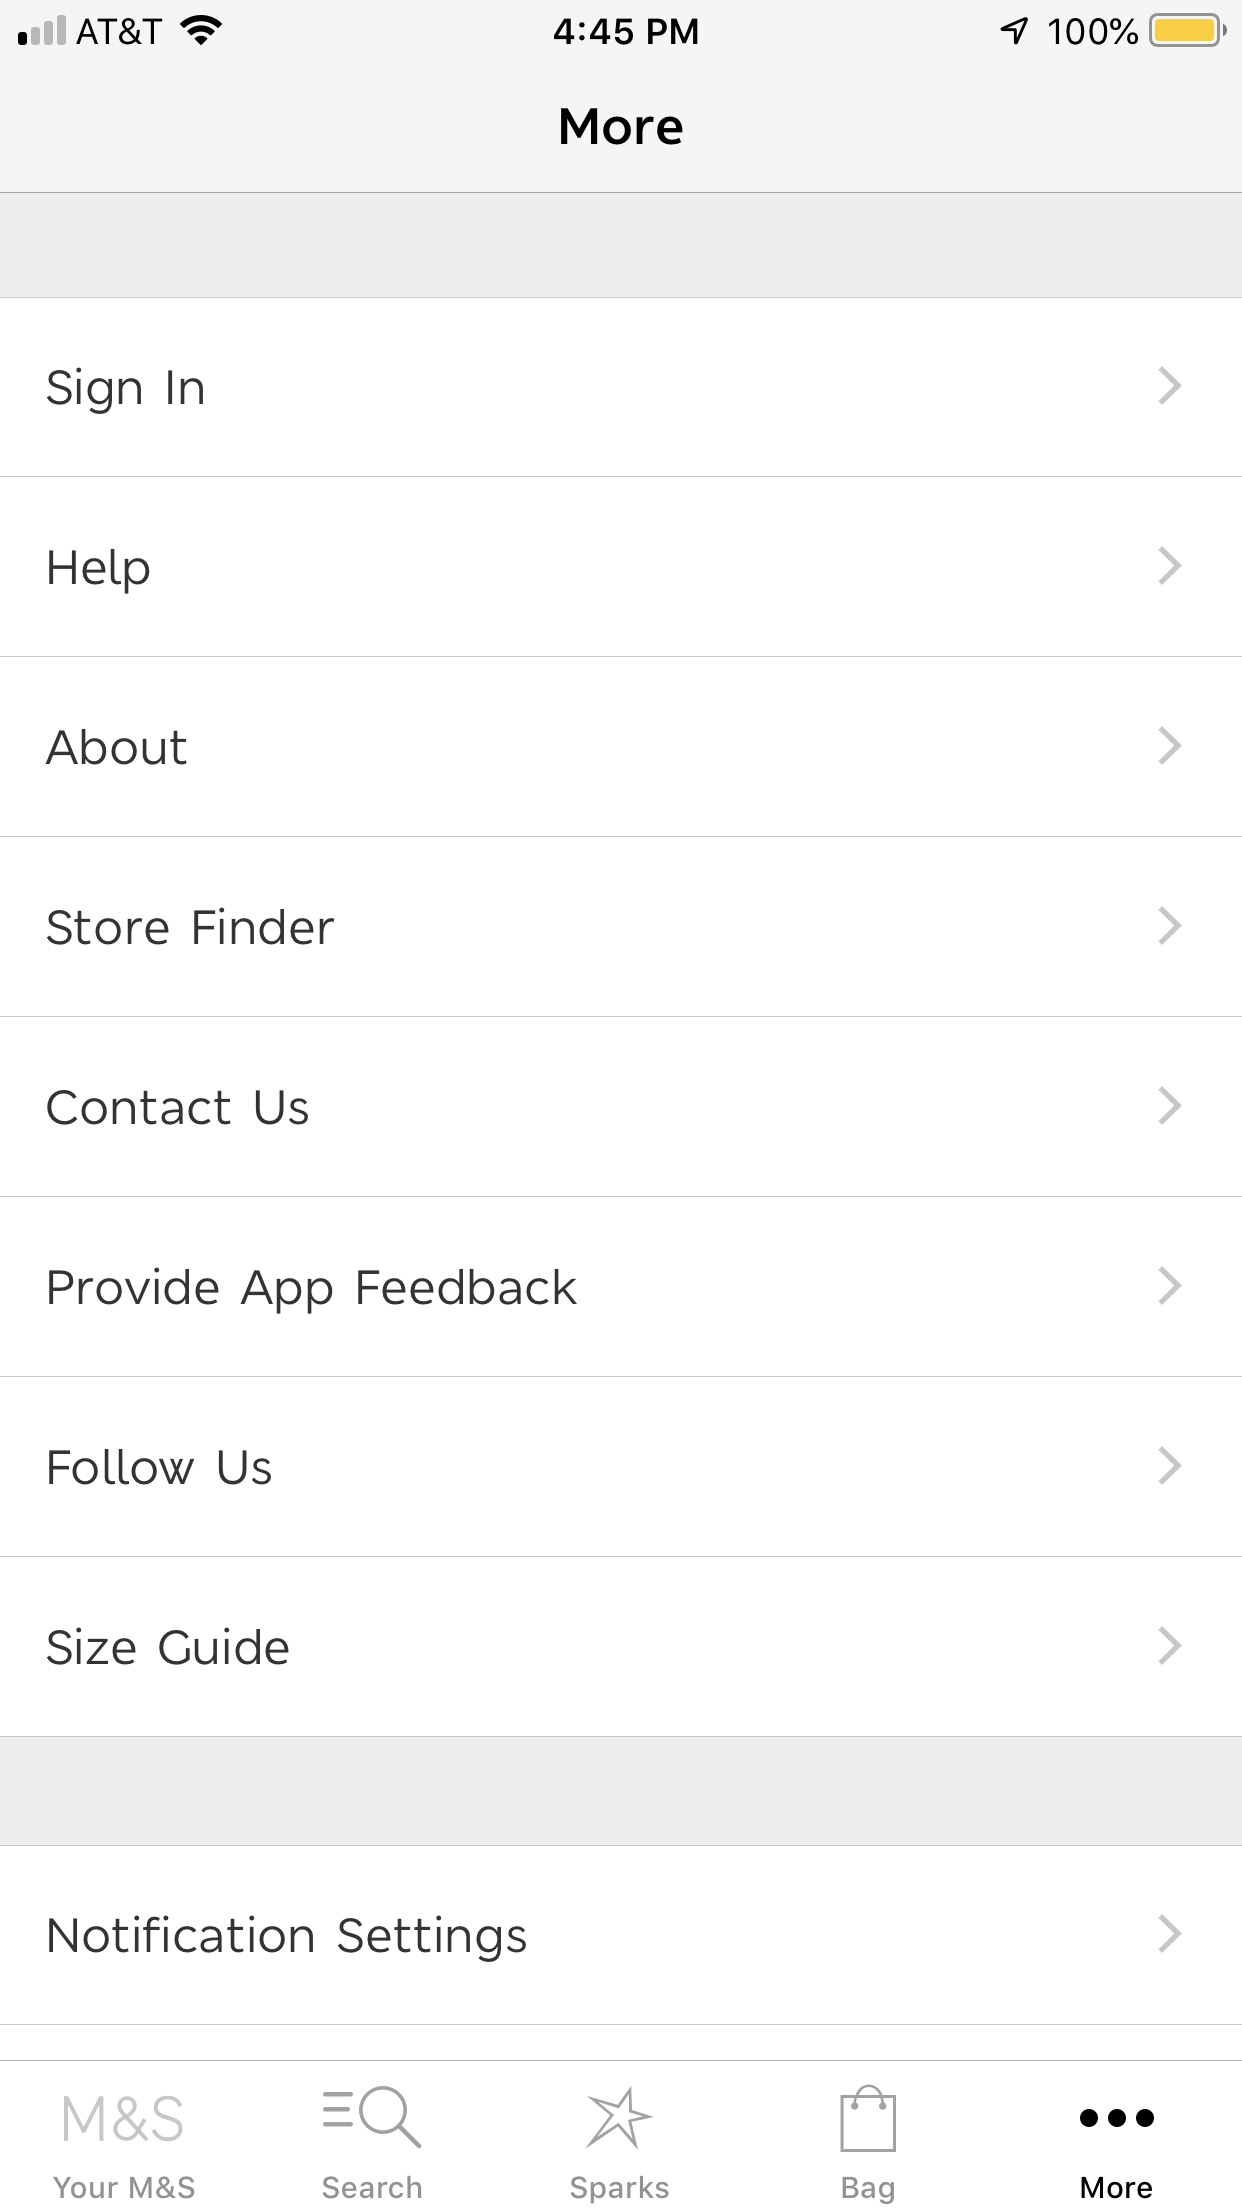Icon: (323, 2085, 423, 2149), (582, 2085, 654, 2150), (840, 2084, 898, 2153), (1080, 2108, 1156, 2128), (1159, 365, 1183, 406), (1159, 725, 1183, 766), (1159, 1086, 1183, 1127), (1159, 1265, 1183, 1306), (1159, 1626, 1183, 1667), (1159, 1914, 1183, 1955), (1159, 1447, 1183, 1486), (1159, 546, 1181, 587), (1159, 905, 1181, 946)
Text: (49, 1266, 578, 1315), (49, 1915, 528, 1962), (47, 907, 337, 946), (47, 1089, 309, 1127), (47, 1627, 290, 1667), (50, 1450, 273, 1486), (47, 367, 205, 416), (64, 2094, 183, 2141), (45, 729, 188, 766), (49, 547, 152, 594), (561, 108, 684, 147), (55, 2175, 196, 2200), (570, 2175, 670, 2203), (323, 2175, 423, 2199), (1080, 2176, 1153, 2199), (842, 2176, 895, 2205)
UpperTaskBar: (2, 2, 1242, 49)
